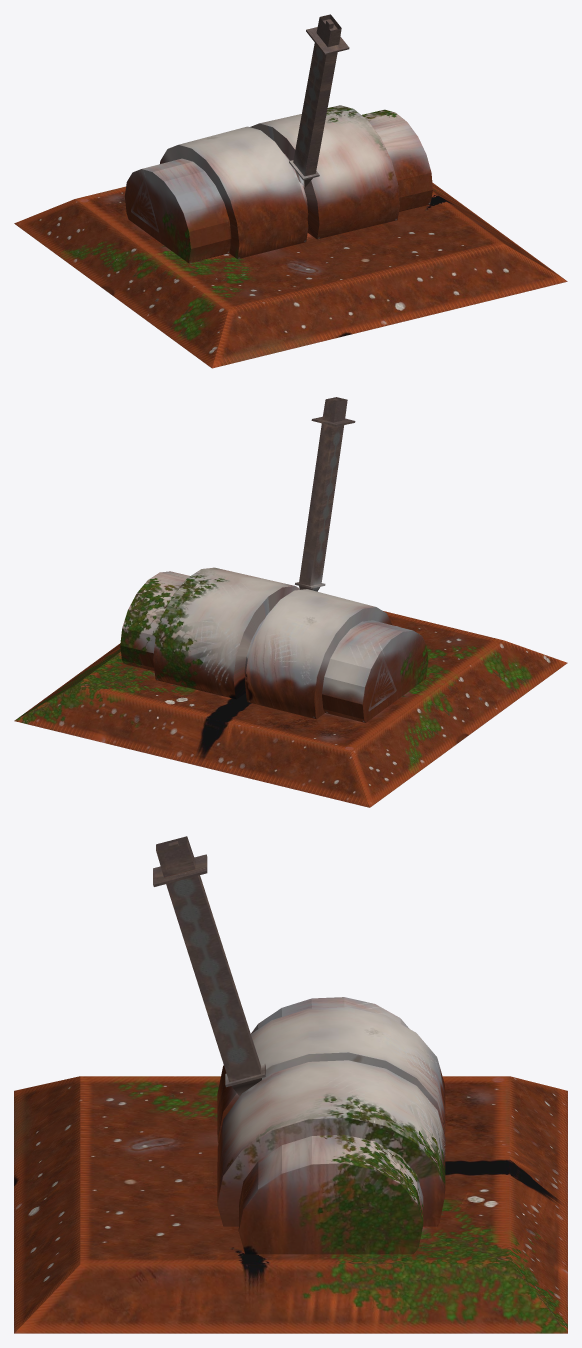
3 renders of one model, top to bottom at view 1: azimuth 30°, elevation 25°; view 2: azimuth 150°, elevation 25°; view 3: azimuth 270°, elevation 25°, orthographic. The views are drawn at different scales.
Parts seen in each view (by area): view 1: Box002_2, lever final done complete_autosave_0_1; view 2: Box002_2, lever final done complete_autosave_0_1; view 3: Box002_2, lever final done complete_autosave_0_1.
Part boxes in pixels (x1,y1,x2,y2): Box002_2: [14, 182, 567, 368]; lever final done complete_autosave_0_1: [124, 14, 432, 263]; Box002_2: [14, 611, 567, 807]; lever final done complete_autosave_0_1: [120, 397, 428, 722]; Box002_2: [14, 1076, 567, 1333]; lever final done complete_autosave_0_1: [153, 836, 445, 1254].
Bounding box in the file's own units: 48.85 × 36.07 × 47.08.
